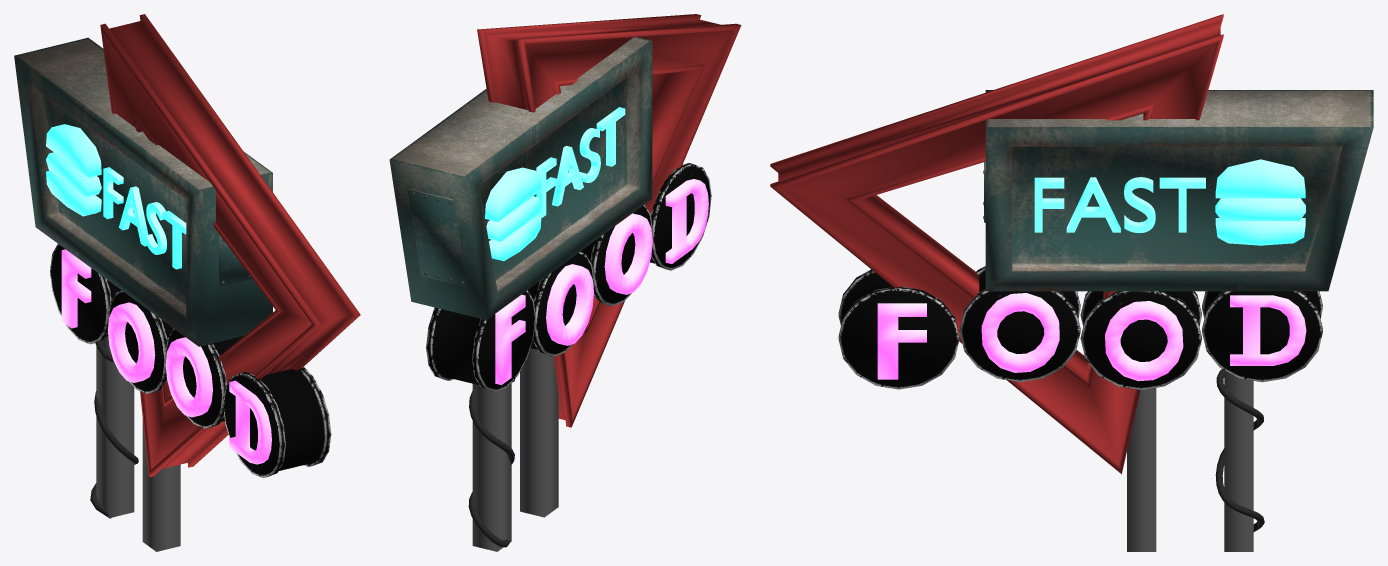
Rendered from fast_food_poster_w1DqUYU.glb.
The picture shows the model from 3 angles, left to right: view 1: azimuth 30°, elevation 25°; view 2: azimuth 150°, elevation 25°; view 3: azimuth 270°, elevation 25°; orthographic projection. The views are drawn at different scales.
Parts seen in each view (by area): view 1: Cylinder.001; view 2: Cylinder.001; view 3: Cylinder.001.
Boxes of the visible parts, box(x1,y1,x2,y2) form: Cylinder.001: box(14, 14, 360, 551); Cylinder.001: box(389, 14, 741, 551); Cylinder.001: box(770, 14, 1373, 551).
Bounding box in the file's own units: 0.3014 × 1.91 × 2.
Materials: 1 (1 with a texture image).
